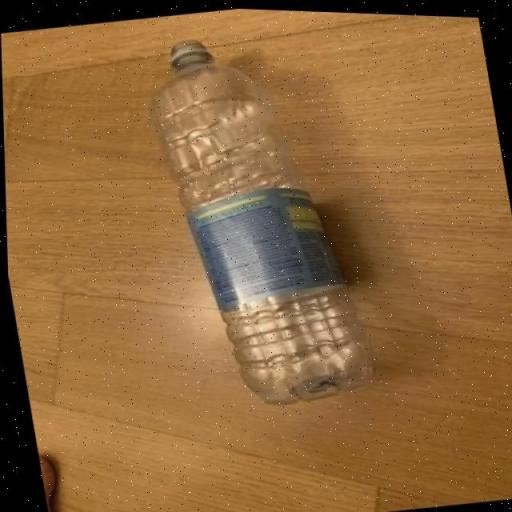plastic: (141, 15, 385, 416)
